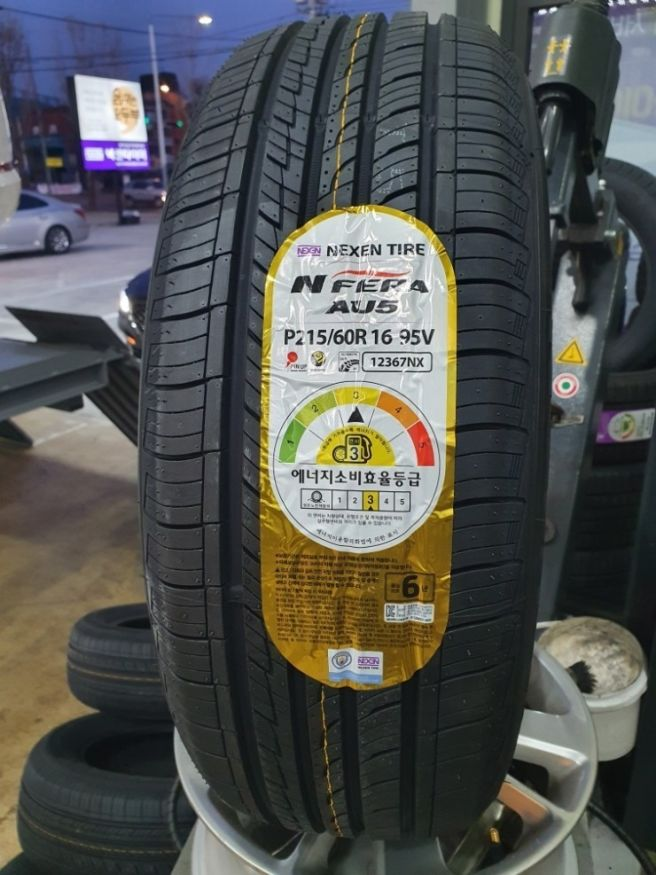new_condition: (142, 15, 545, 857)
